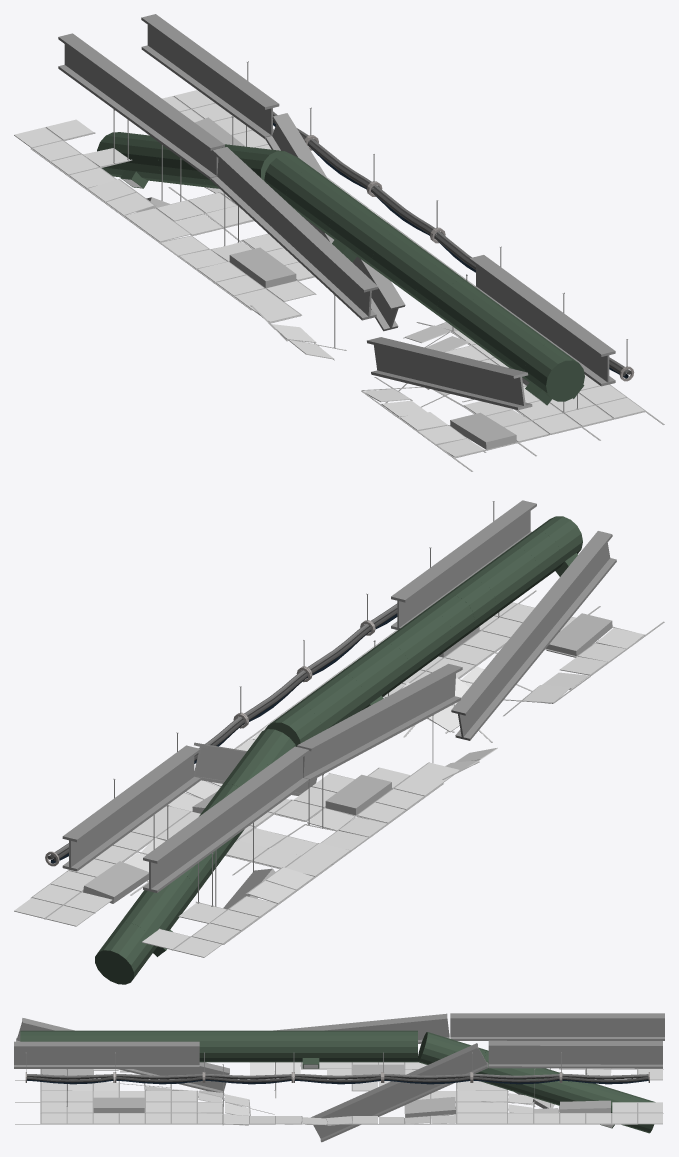
File: longHallwayFullyDestroyed.fbx
3 views of the same model, one above another, from view 1: azimuth 30°, elevation 25°; view 2: azimuth 150°, elevation 25°; view 3: azimuth 270°, elevation 25° (orthographic). The views are drawn at different scales.
Parts seen in each view (by area): view 1: Plane.496; view 2: Plane.496; view 3: Plane.496.
Boxes of the visible parts, <box> form: Plane.496: <box>14,14,664,471</box>; Plane.496: <box>14,500,664,984</box>; Plane.496: <box>14,1013,664,1142</box>.
Size of the model in its own units: 1273 by 907 by 5248.
